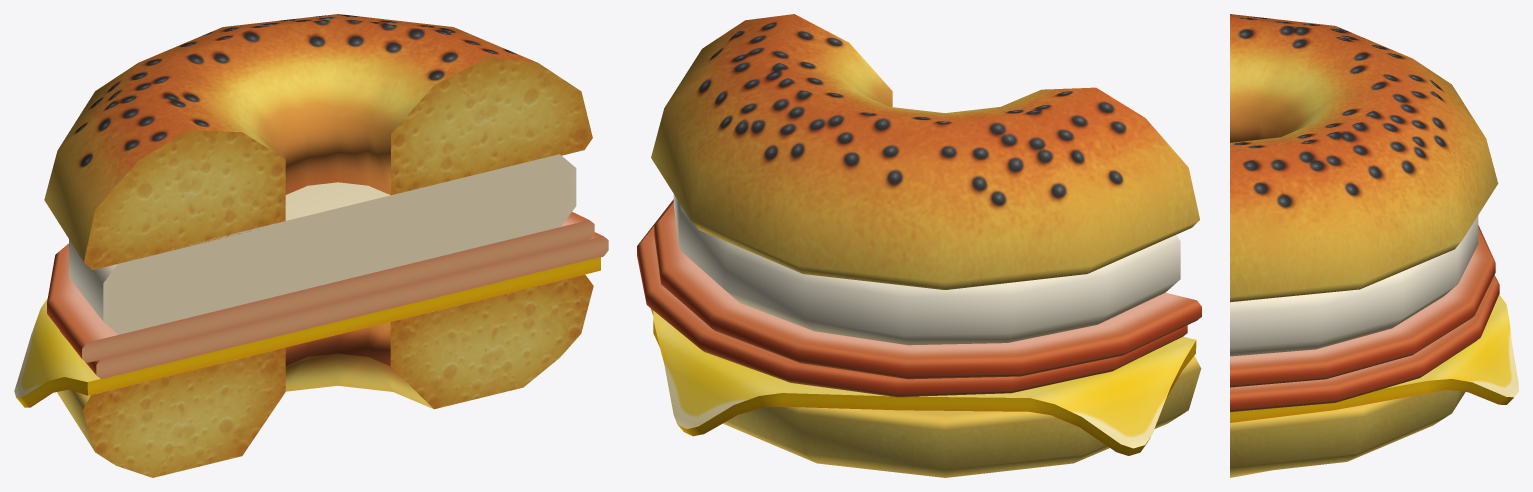
Rendered from Bagel_Breakfast_Half_01.fbx.
3 renders of one model, left to right at view 1: azimuth 30°, elevation 25°; view 2: azimuth 150°, elevation 25°; view 3: azimuth 270°, elevation 25°, orthographic. The views are drawn at different scales.
Parts seen in each view (by area): view 1: Bagel_Breakfast_Half_01; view 2: Bagel_Breakfast_Half_01; view 3: Bagel_Breakfast_Half_01.
Part boxes in pixels (box(x1,y1,x2,y2)): Bagel_Breakfast_Half_01: box(14, 14, 608, 477); Bagel_Breakfast_Half_01: box(637, 14, 1201, 477); Bagel_Breakfast_Half_01: box(1230, 14, 1518, 477).
Size of the model in its own units: 50.83 by 31.01 by 26.25.
